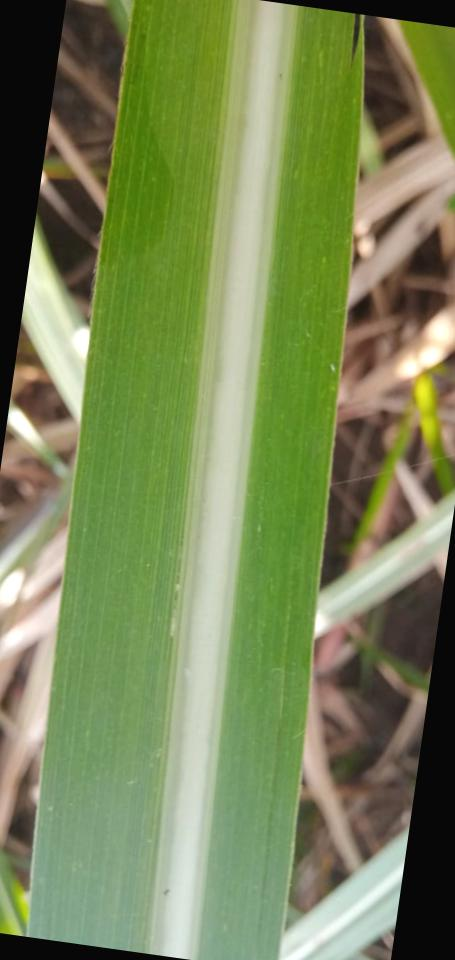Healthy: (25, 0, 367, 960)
